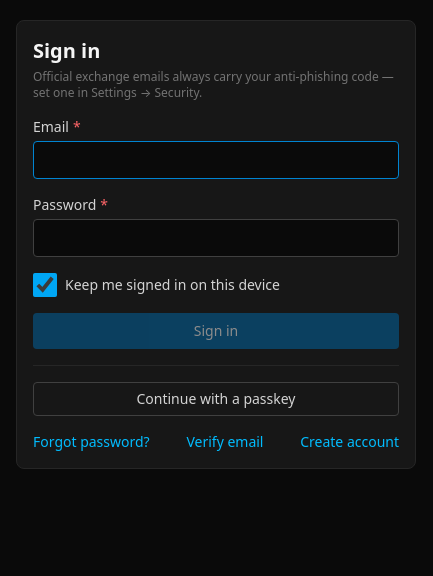
it: LoginPage › surfaces rate-limit errors with retry_after
Type "a@b.c" into the field labelled "Email*" at (216, 160), box [33,140,399,178]
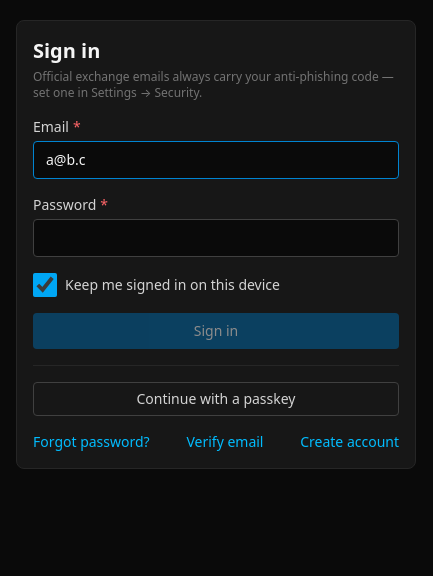
Type "pw" into the password field labelled "Password*" at (216, 238), box [33,218,399,256]
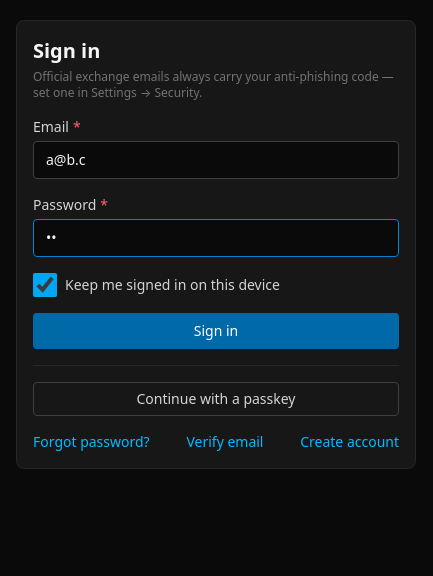
Click the button "Sign in" at (216, 330), box [33,312,399,348]
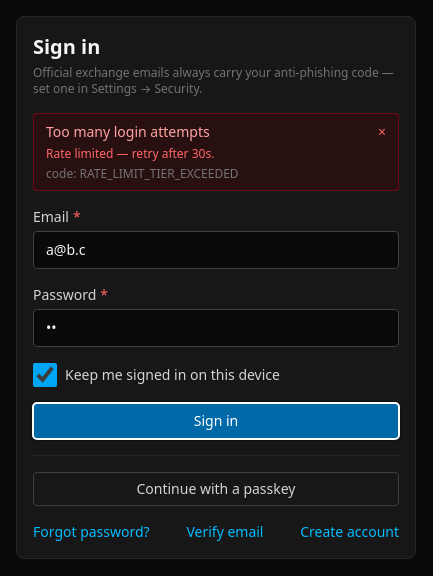
Now the message shows "Too many login attempts", box [46,122,210,141]
Now the message shows "retry after 30s", box [33,113,399,191]
